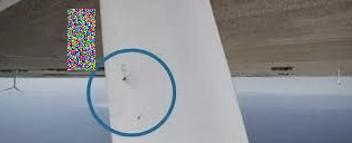faulty: (76, 56, 183, 126)
